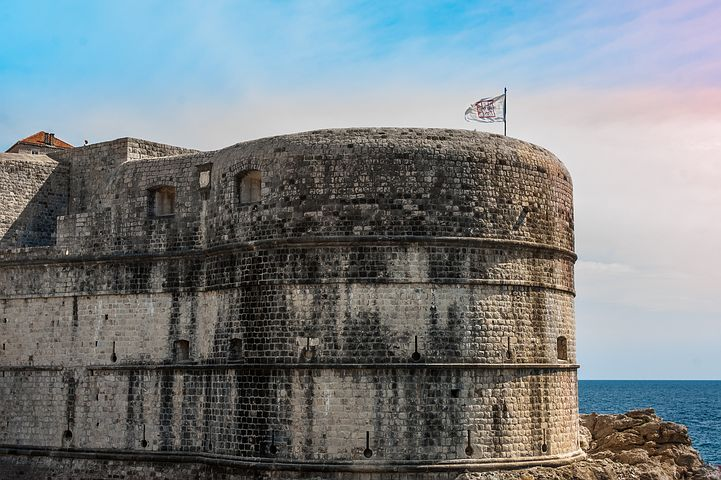Flag: (463, 93, 505, 125)
